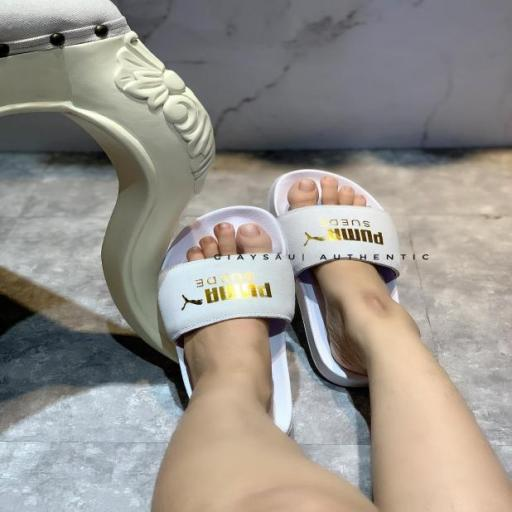Puma: (203, 279, 275, 306), (322, 224, 386, 247), (176, 288, 206, 315), (296, 229, 327, 251)
